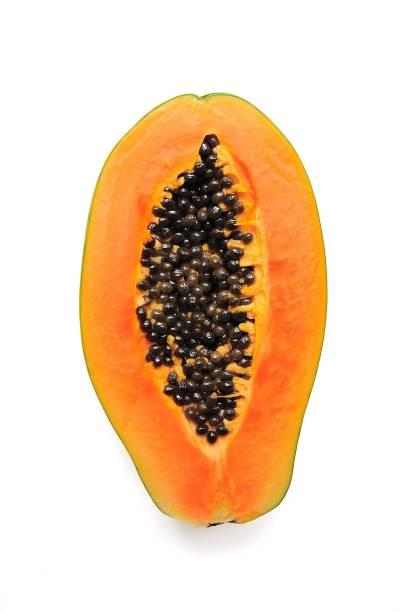papaya: (49, 82, 352, 549)
